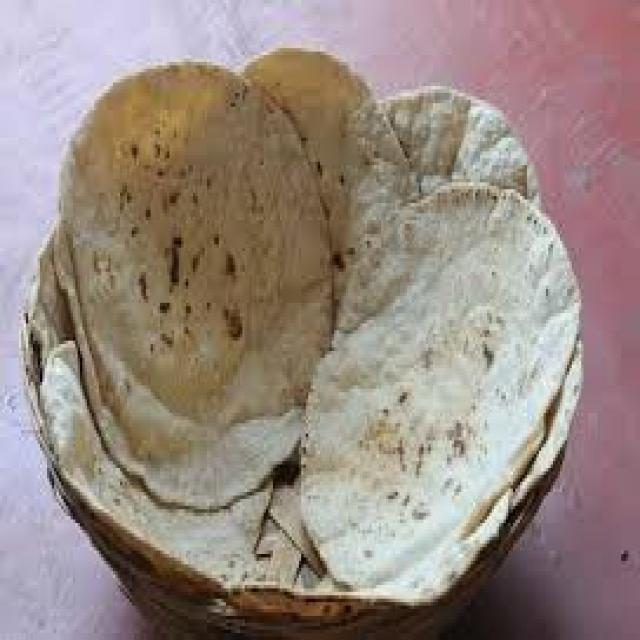ROTI: (59, 65, 334, 499), (301, 182, 576, 585), (242, 48, 409, 255)
